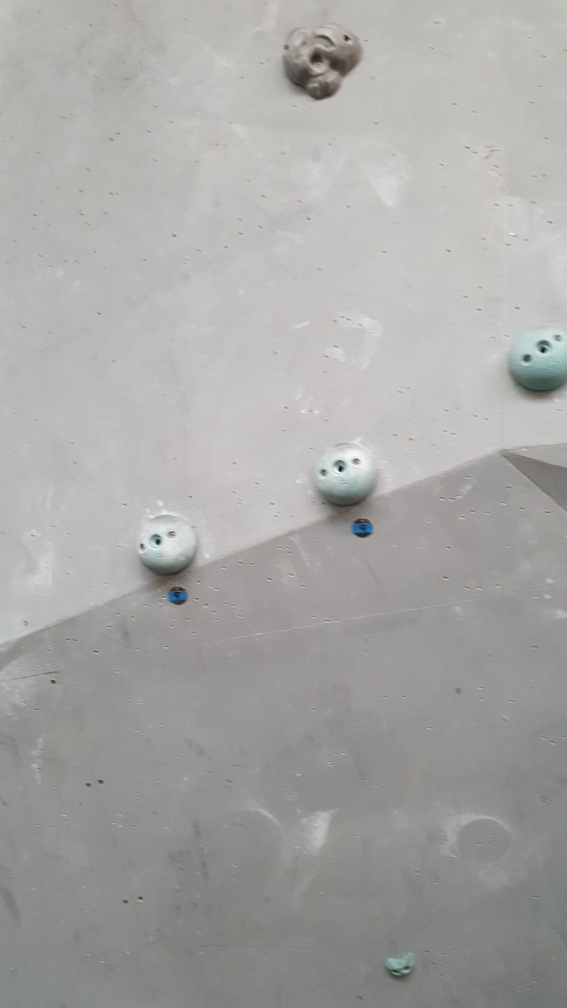Hand Start: (349, 515, 374, 539), (166, 584, 189, 609)
Jug: (276, 22, 370, 106)
Sloper: (135, 511, 201, 579), (313, 439, 379, 505), (508, 324, 567, 394)
